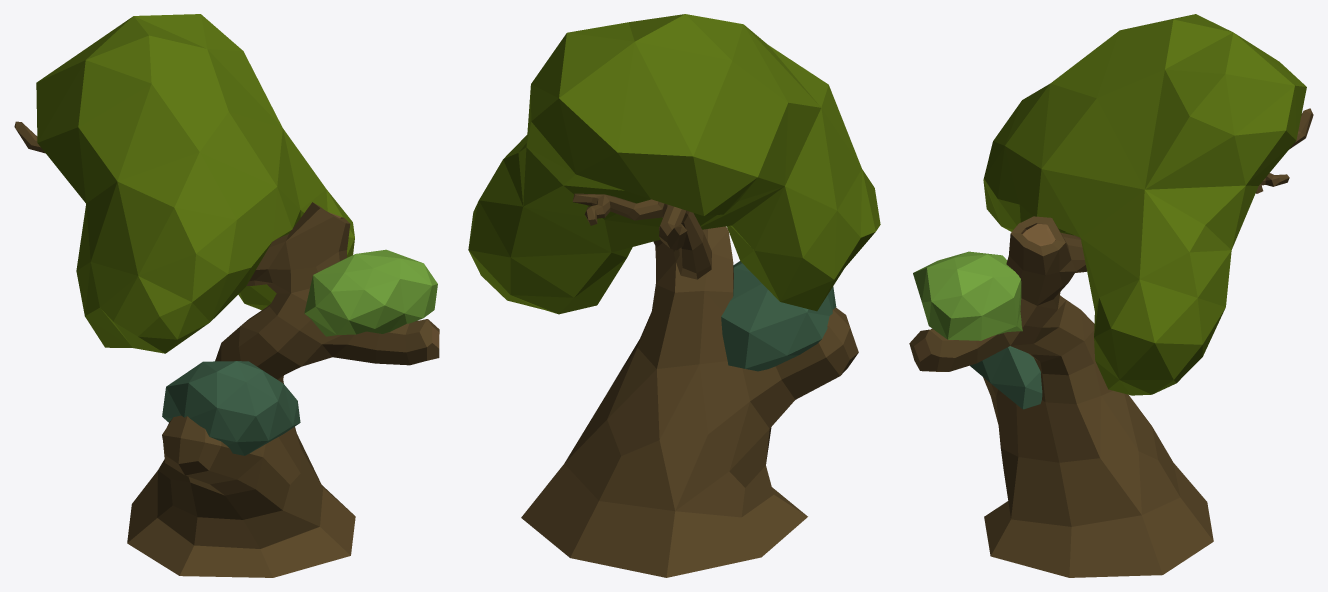
Rendered from meadow-tree-a.glb.
The picture shows the model from 3 angles, left to right: view 1: azimuth 30°, elevation 25°; view 2: azimuth 150°, elevation 25°; view 3: azimuth 270°, elevation 25°; orthographic projection. The views are drawn at different scales.
Visible parts, largest first — view 1: EM_Tree1a; view 2: EM_Tree1a; view 3: EM_Tree1a.
Boxes of the visible parts, box(x1,y1,x2,y2) form: EM_Tree1a: box(14, 14, 439, 577); EM_Tree1a: box(468, 14, 880, 577); EM_Tree1a: box(909, 14, 1313, 577).
Size of the model in its own units: 3.55 by 5.51 by 4.18.
1 material, 1 textured.
